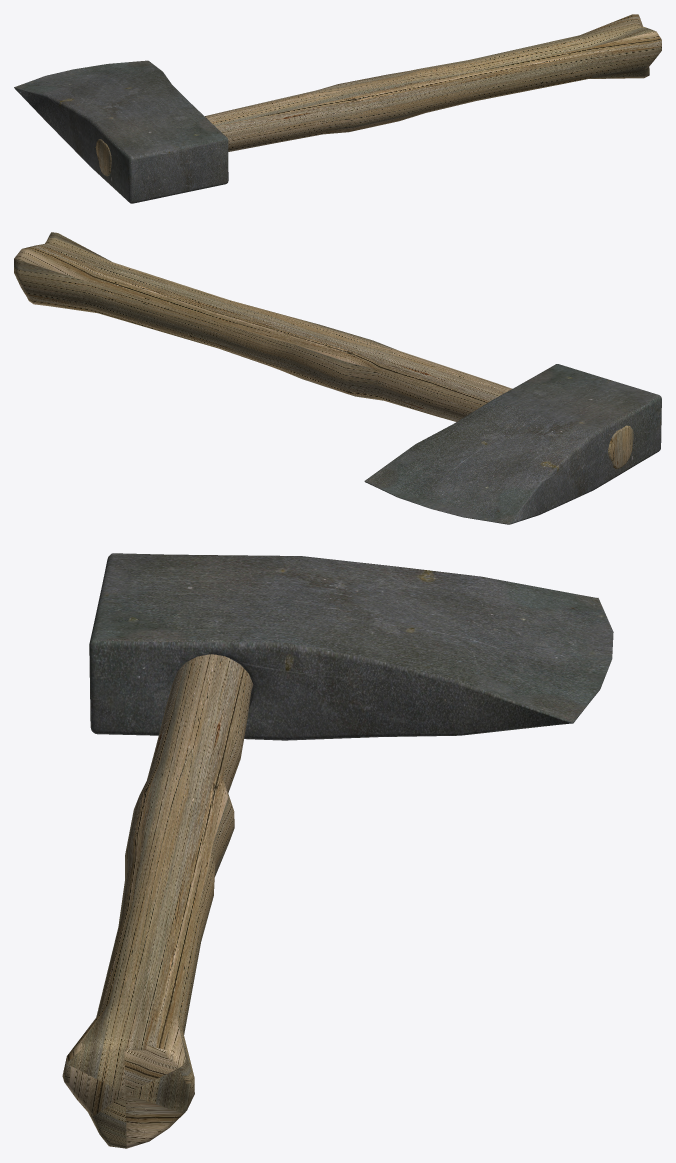
Rendered from Axe_OBJ.obj.
3 views of the same model, one above another, from view 1: azimuth 30°, elevation 25°; view 2: azimuth 150°, elevation 25°; view 3: azimuth 270°, elevation 25° (orthographic). The views are drawn at different scales.
Parts seen in each view (by area): view 1: ChamferCyl01, ChamferBox01; view 2: ChamferCyl01, ChamferBox01; view 3: ChamferBox01, ChamferCyl01.
Part boxes in pixels (x1=…): ChamferCyl01: x1=95, y1=14, x2=661, y2=176; ChamferBox01: x1=14, y1=60, x2=228, y2=203; ChamferCyl01: x1=14, y1=232, x2=633, y2=469; ChamferBox01: x1=364, y1=364, x2=661, y2=524; ChamferBox01: x1=89, y1=553, x2=613, y2=740; ChamferCyl01: x1=62, y1=654, x2=253, y2=1148.
Size of what is drawn, in the model's own units: 0.3849 by 0.038 by 0.1744.
Materials: 2 (2 with a texture image).
